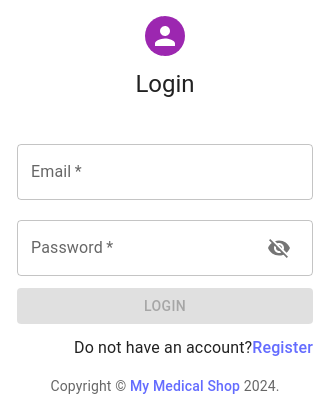
Test case: Login › Button must be enabled when only all fields exist
Type "vaishnavi@gmail.com" into the field with test id "login-email" at x=165, y=172, box x1=17 y1=144 x2=313 y2=200
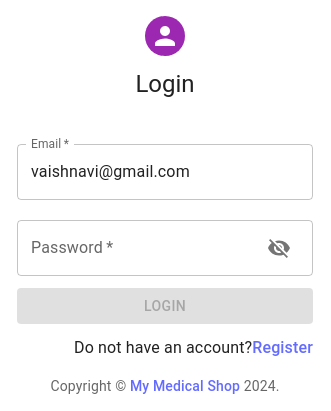
Type "Vai1368*" into the password field with test id "login-password" at x=134, y=248, box x1=17 y1=220 x2=251 y2=276
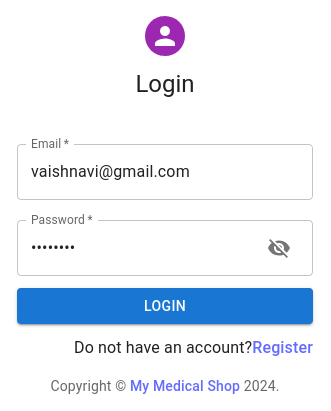
Now the button "Login" is enabled, box x1=17 y1=288 x2=313 y2=324
